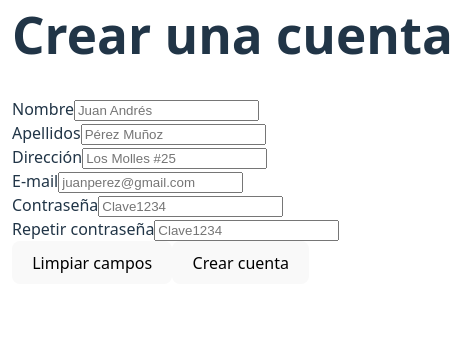
Formulario Component › muestra mensaje de error si el email no contiene arroba
This screenshot has width=467, height=340.
In the field labelled "Nombre": (166, 110) [74, 100, 259, 121], type "Tomas"
In the field labelled "Apellidos": (173, 134) [81, 124, 266, 145], type "Ponce"
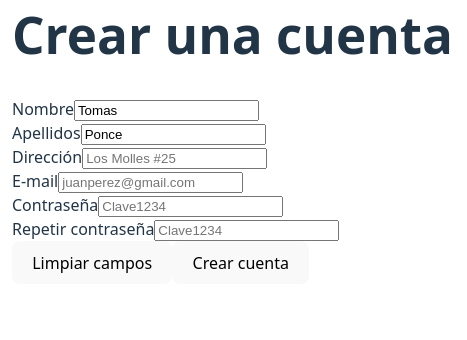
In the field labelled "Dirección": (175, 158) [82, 148, 267, 169], type "Calle 123"
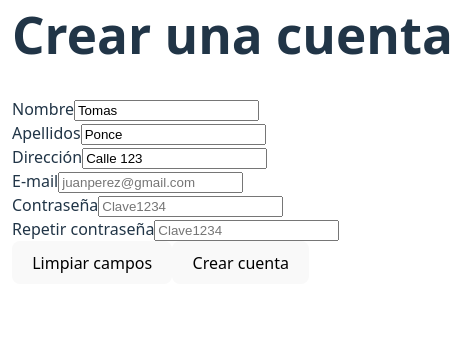
In the field labelled "E-mail": (151, 182) [58, 172, 243, 193], type "hola"
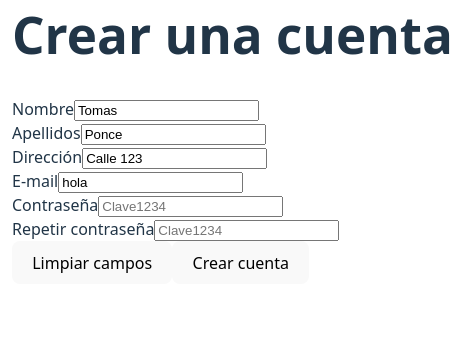
In the password field labelled "Contraseña": (191, 206) [98, 196, 283, 217], type "Clave1234"
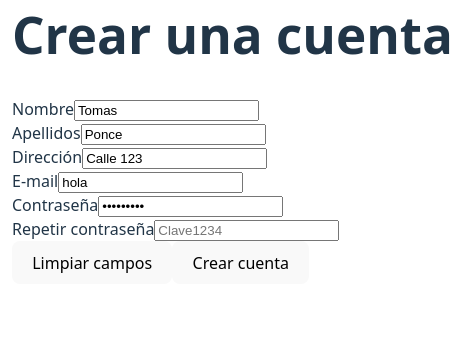
In the password field labelled "Repetir contraseña": (247, 230) [154, 220, 339, 241], type "Clave1234"
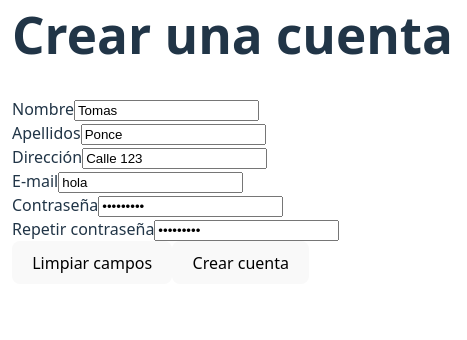
Click the button "Crear cuenta": (241, 262) [172, 241, 309, 284]
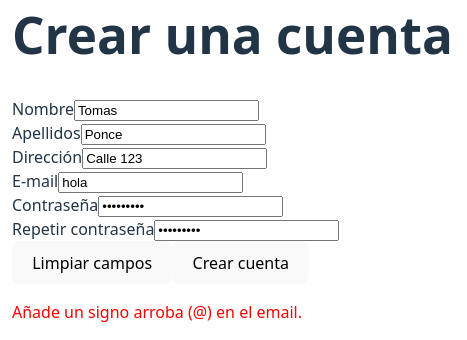
Now the text "Añade un signo arroba (@) en el email." is shown, box [12, 301, 302, 323]
